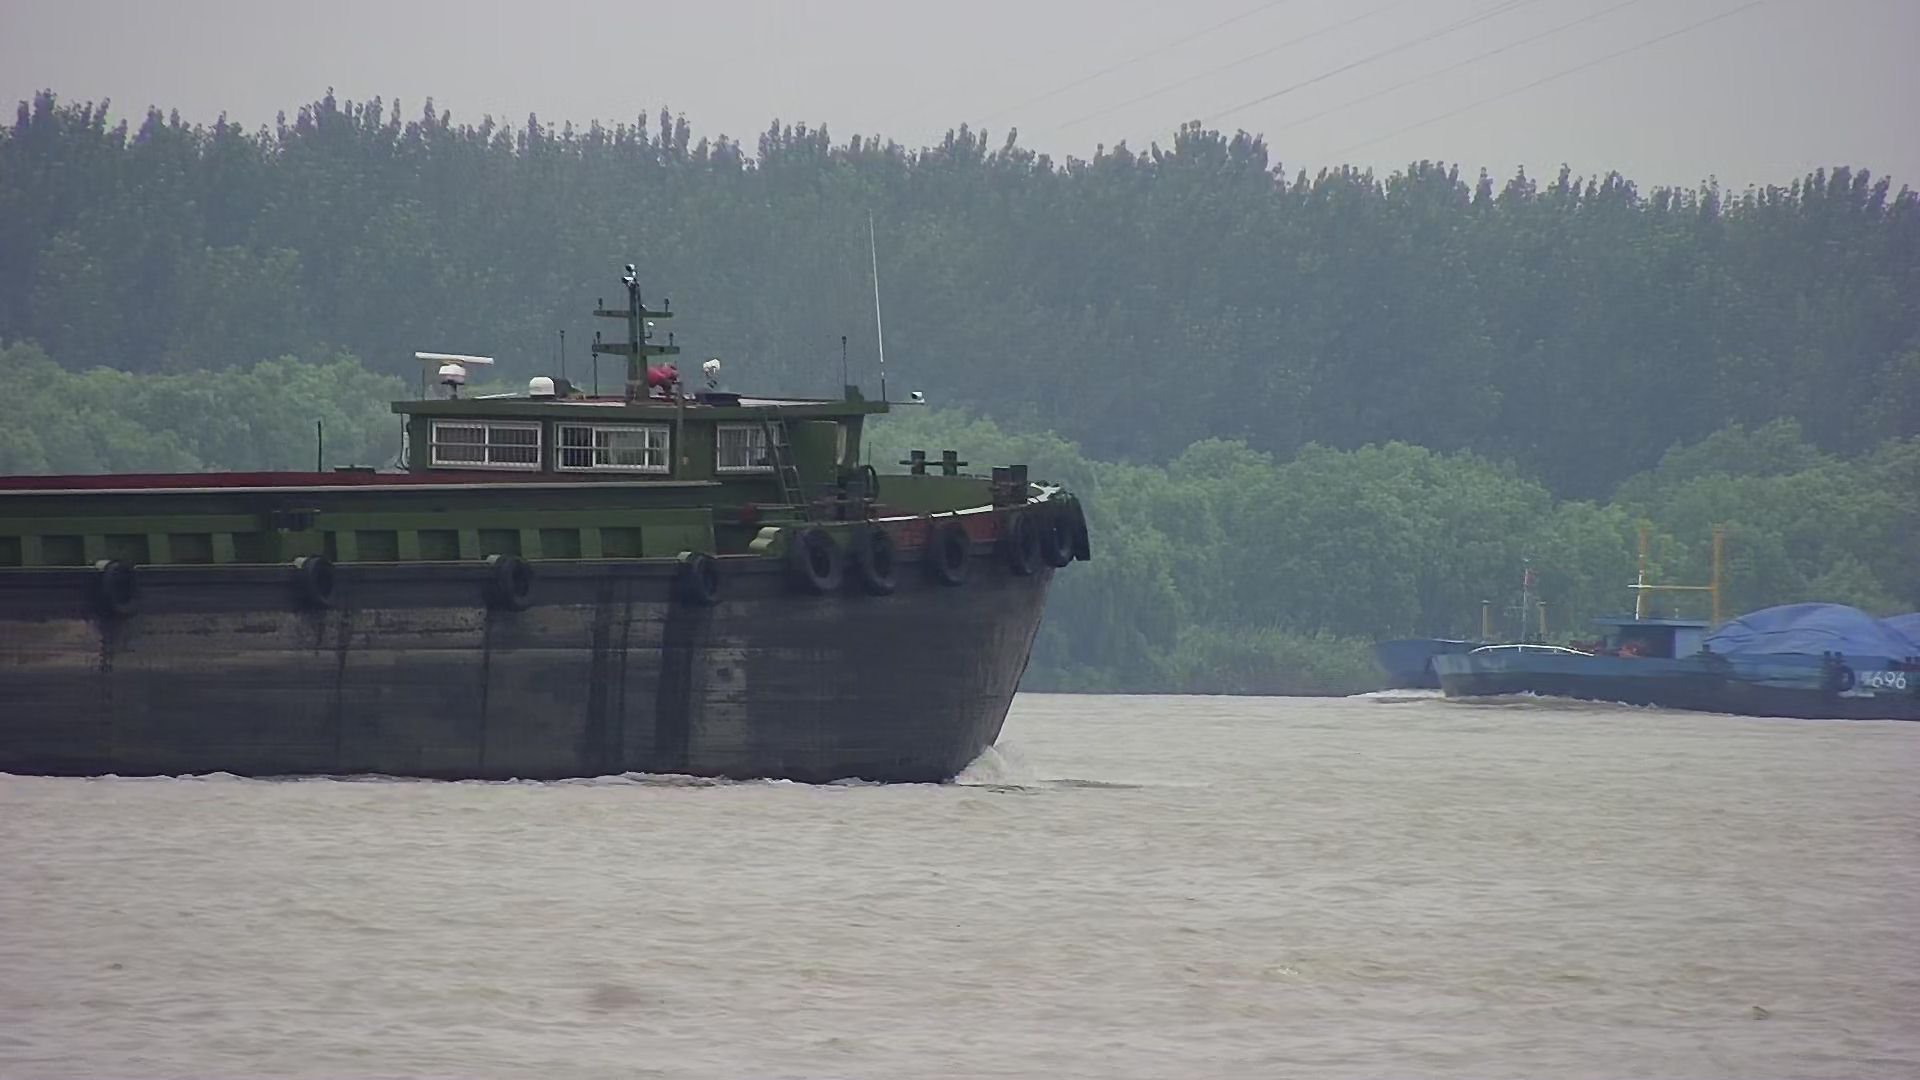ship: (1, 260, 1087, 802), (1371, 512, 1920, 729), (1425, 568, 1920, 729)
